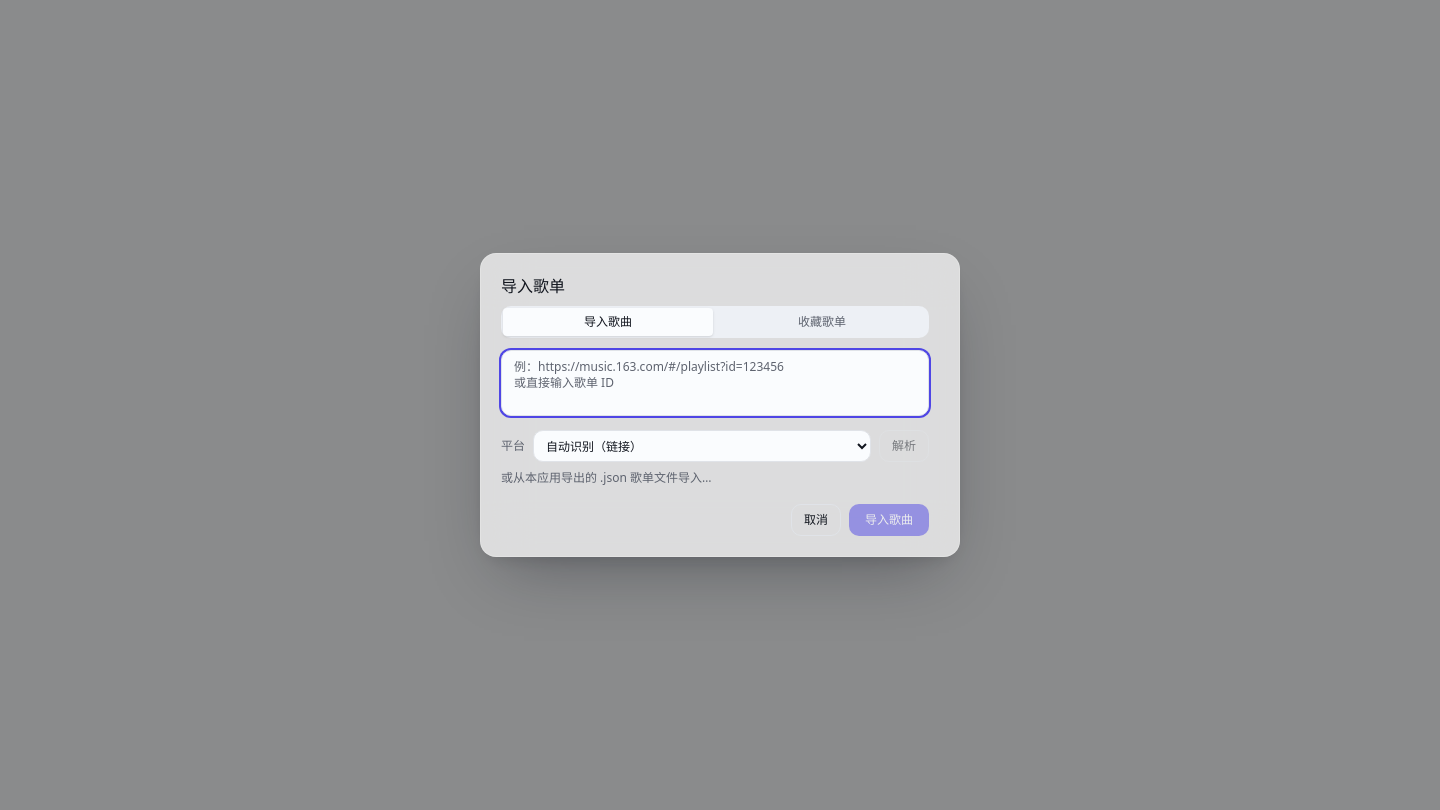
Test: 从 .json 歌单文件导入 › 选文件后摆出预览，导入时新建歌单并落库
Click the button "或从本应用导出的 .json 歌单文件导入…": click(606, 478) [501,470,712,486]
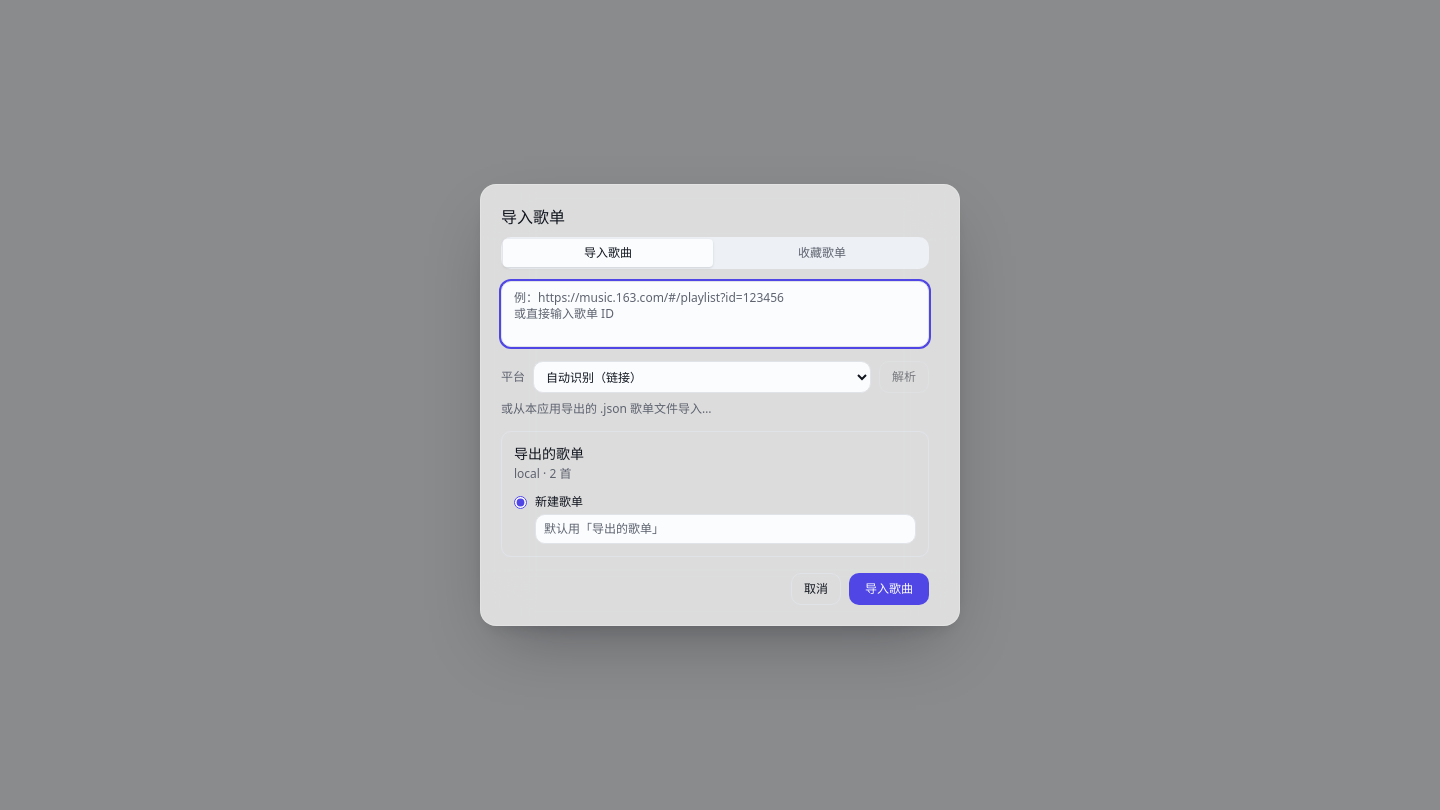
Result: the text "导出的歌单" is shown at [514,444,584,464]
Result: the text "local · 2 首" is shown at [514,465,571,482]
Note: 「导入歌曲」既是顶部 tab 名也是提交按钮，取最后一个（页脚那颗）
Click the 2nd button "导入歌曲": click(889, 589) [849,573,929,605]
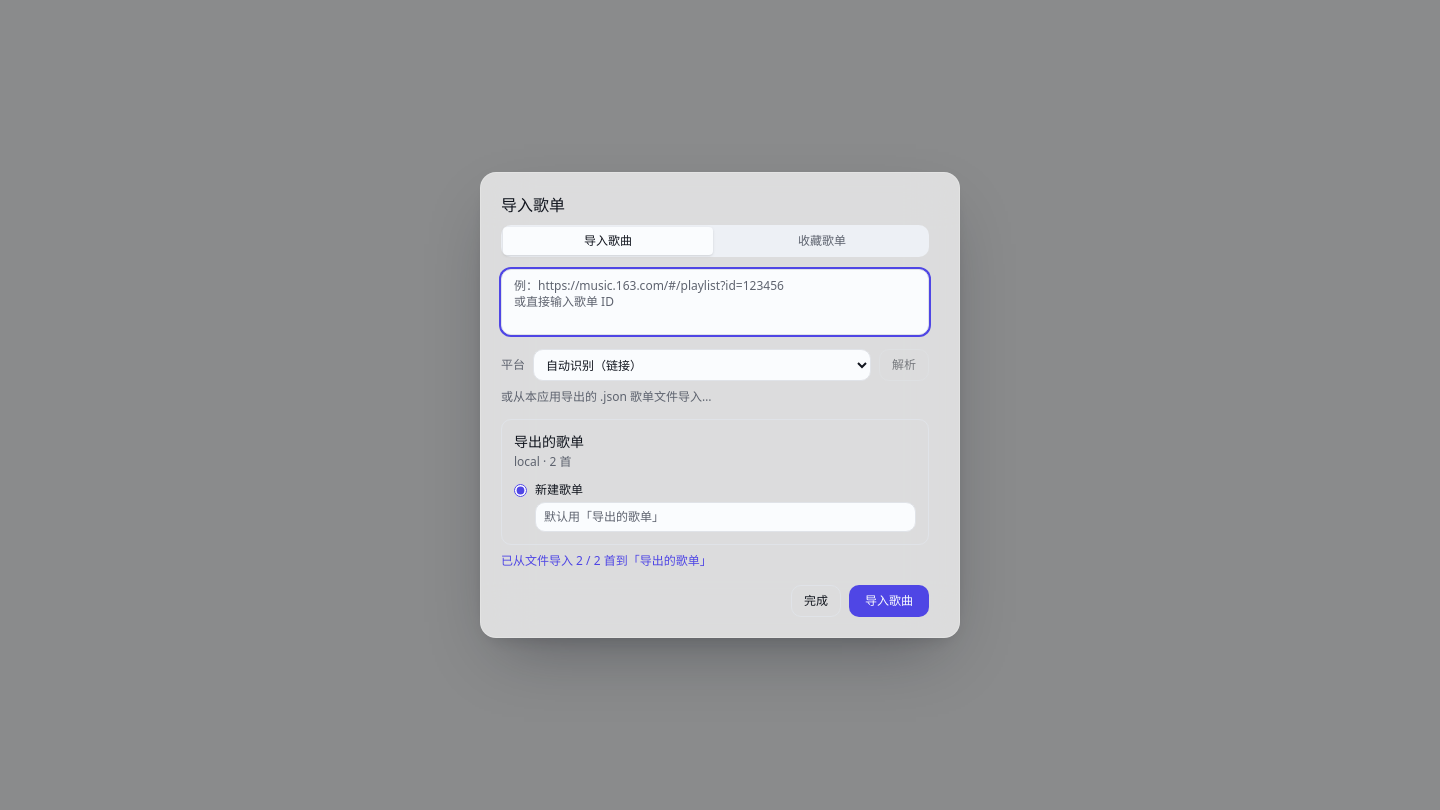
Result: the text "已从文件导入 2 / 2 首到「导出的歌单」" is shown at [501,552,712,569]
